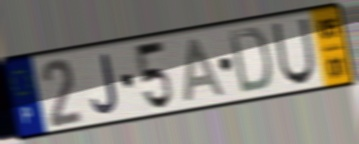2: (40, 55, 86, 130)
5: (130, 39, 174, 113)
A: (182, 35, 228, 105)
D: (226, 26, 273, 96)
J: (89, 51, 121, 116)
U: (270, 16, 318, 88)
